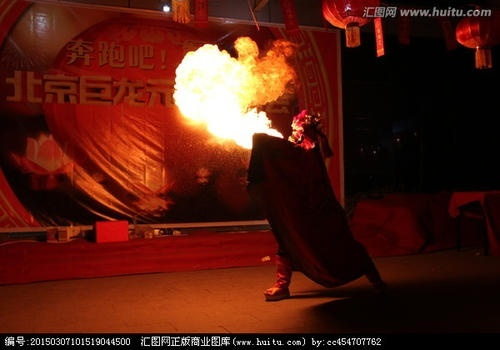fire: (171, 35, 292, 148)
